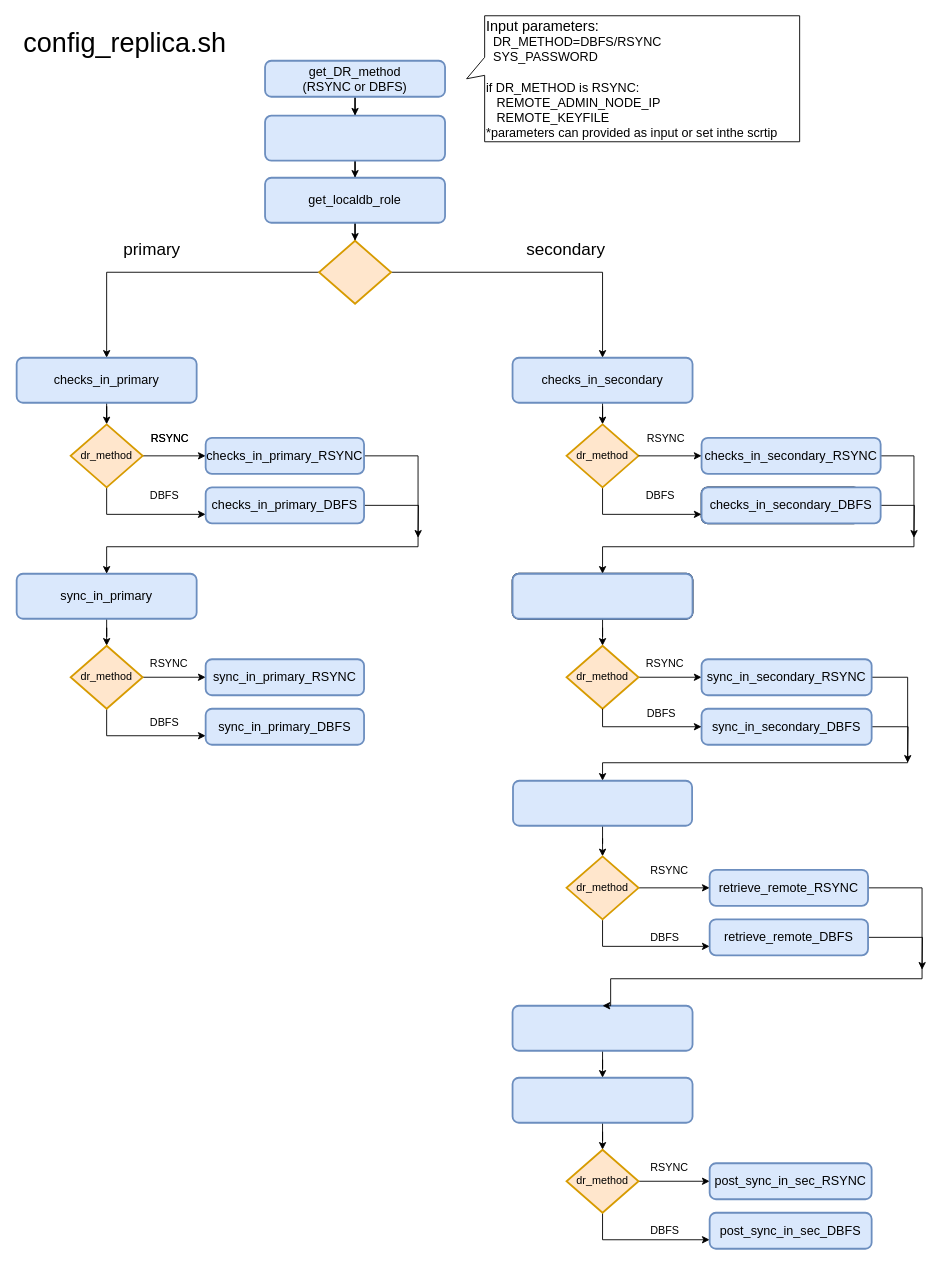
This 945x1265 diagram has some shape labels left out. The shapes that lost their labels are listed below. From the top down, each one's centre as x and y in pixels, then its label:
At point 355,137: "get_variables".
At point 355,271: "db_role".
At point 602,595: "sync_in_secondary".
At point 602,802: "retrieve_remote_connect_info".
At point 602,1027: "replace_connect_info".
At point 602,1099: "post_sync_in_secondary".
